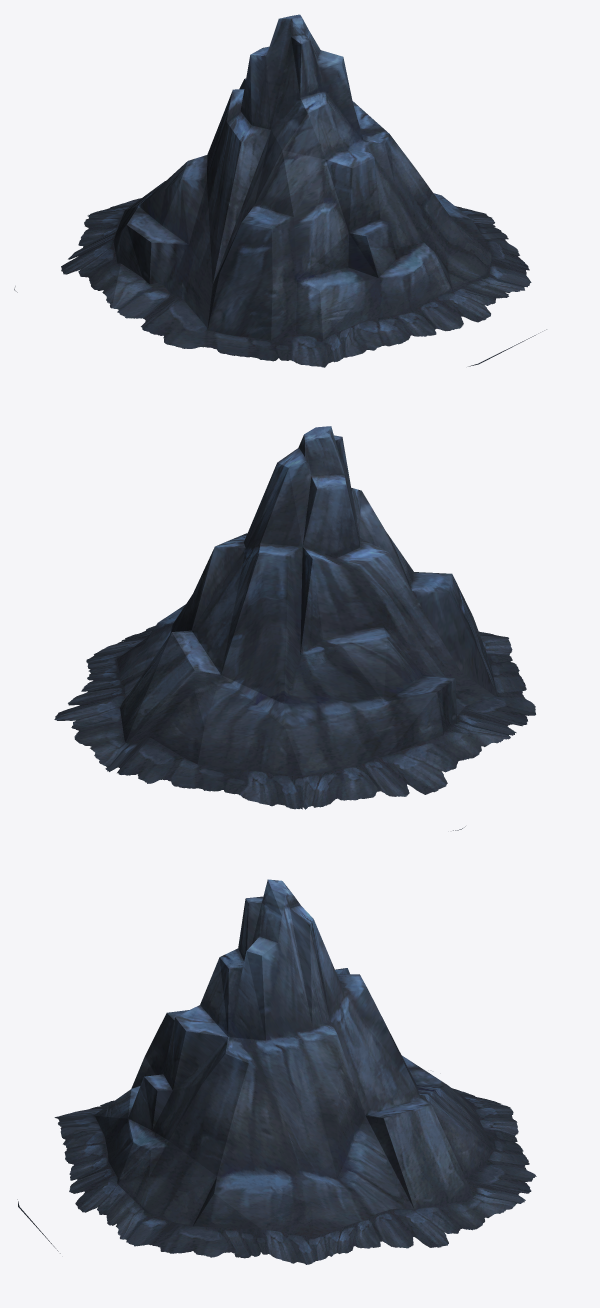
The model's file is mine_free_footer_02.fbx.
The picture shows the model from 3 angles, top to bottom: view 1: azimuth 30°, elevation 25°; view 2: azimuth 150°, elevation 25°; view 3: azimuth 270°, elevation 25°; orthographic projection. The views are drawn at different scales.
Visible parts, largest first — view 1: obj0.105; view 2: obj0.105; view 3: obj0.105.
Part boxes in pixels (box(x1,y1,x2,y2)): obj0.105: box(14, 14, 546, 367); obj0.105: box(54, 426, 535, 830); obj0.105: box(17, 879, 536, 1264).
Size of the model in its own units: 5.39 by 3.09 by 5.46.
